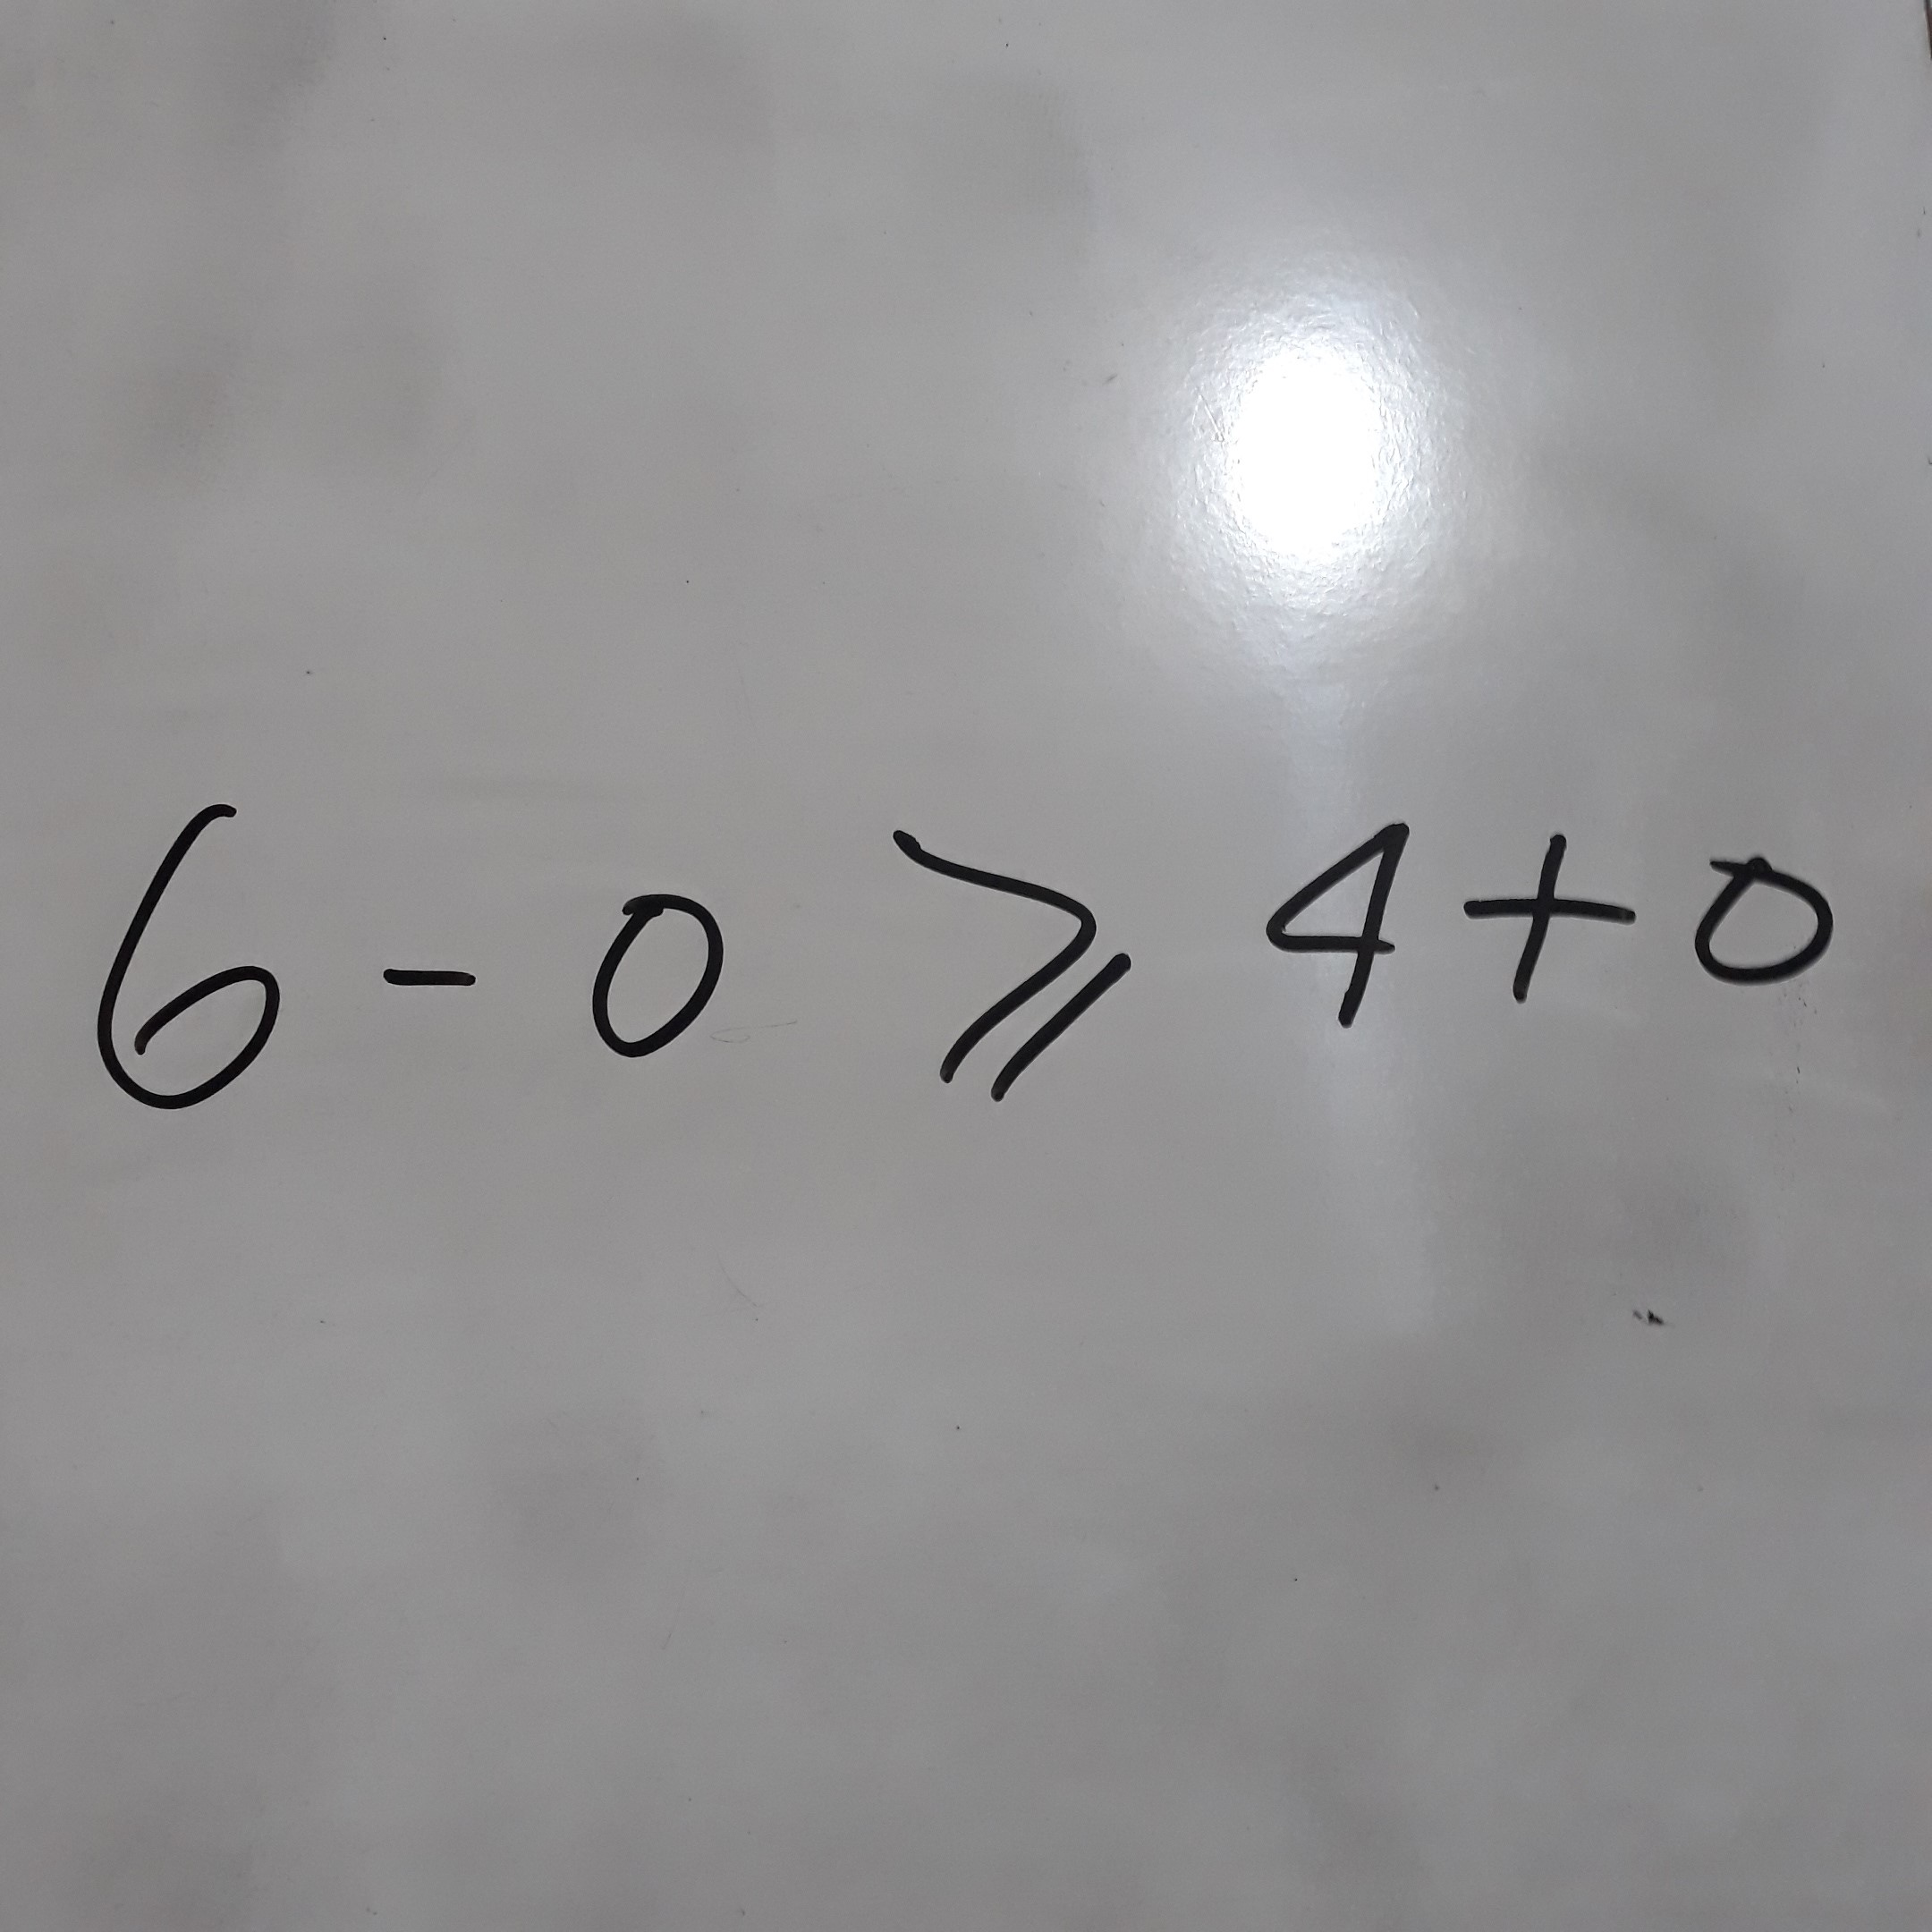min: (346, 931, 492, 1021)
morethan-equal: (877, 775, 1150, 1129)
num0: (1674, 808, 1867, 1055), (579, 835, 744, 1083)
num4: (1241, 801, 1433, 1048)
num6: (67, 770, 315, 1138)
sum: (1449, 785, 1641, 1033)
